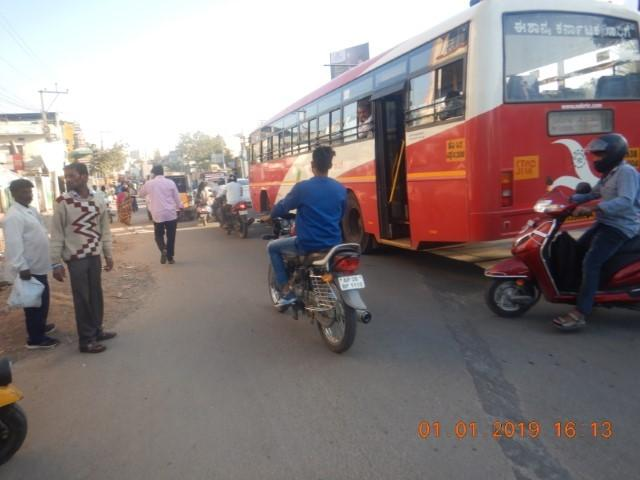plate: (336, 274, 365, 291)
